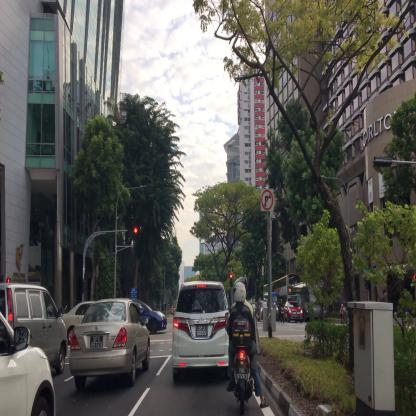red_traffic_light: (128, 227, 138, 233), (230, 273, 232, 286)
